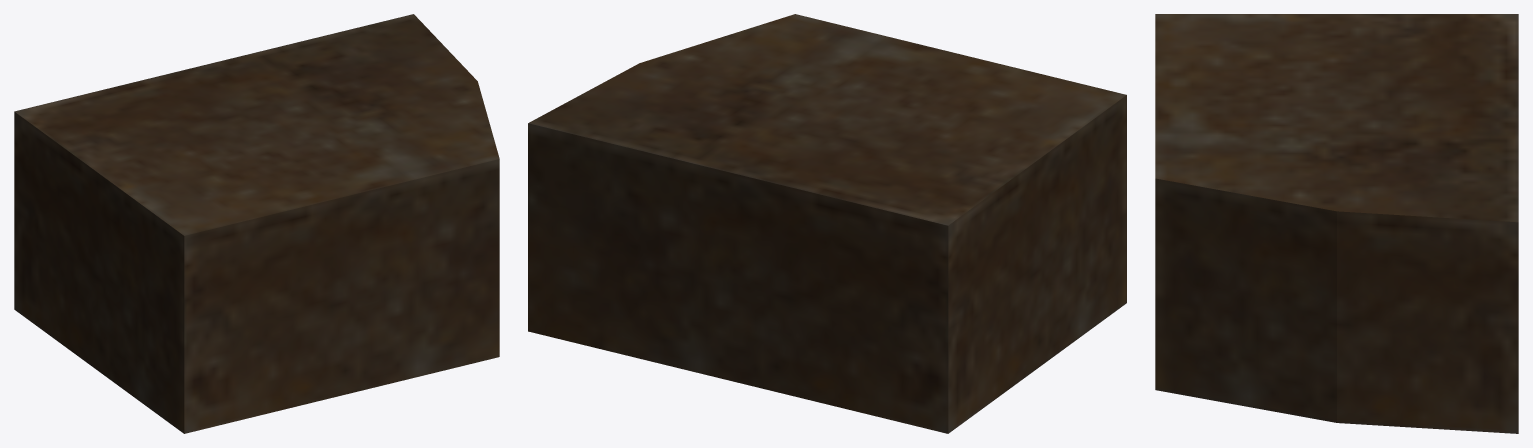
Rendered from brick_mx_1_1.dae.
3 views of the same model, side by side, from view 1: azimuth 30°, elevation 25°; view 2: azimuth 150°, elevation 25°; view 3: azimuth 270°, elevation 25° (orthographic). The views are drawn at different scales.
Parts seen in each view (by area): view 1: brick_mx_1_1; view 2: brick_mx_1_1; view 3: brick_mx_1_1.
Boxes of the visible parts, box(x1,y1,x2,y2) form: brick_mx_1_1: box(14, 14, 499, 433); brick_mx_1_1: box(528, 14, 1126, 433); brick_mx_1_1: box(1155, 14, 1518, 433).
Bounding box in the file's own units: 0.19 × 0.14 × 0.09.
Materials: 1 (1 with a texture image).
